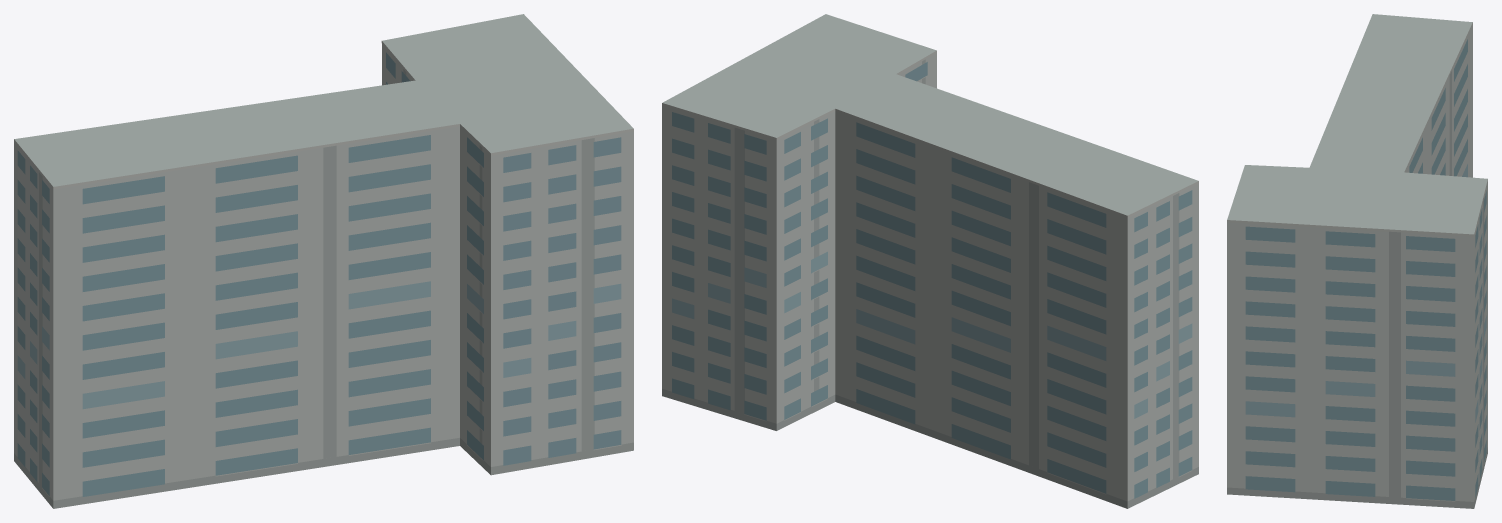
File: residential-0de4831f-9036-4392-9ade-1a5c6d03c9d6.glb
The picture shows the model from 3 angles, left to right: view 1: azimuth 30°, elevation 25°; view 2: azimuth 150°, elevation 25°; view 3: azimuth 270°, elevation 25°; orthographic projection. The views are drawn at different scales.
Visible parts, largest first — view 1: residential-0de4831f-9036-4392-9ade-1a5c6d03c9d6.tmp; view 2: residential-0de4831f-9036-4392-9ade-1a5c6d03c9d6.tmp; view 3: residential-0de4831f-9036-4392-9ade-1a5c6d03c9d6.tmp.
Part boxes in pixels (left/top/right/bottom): residential-0de4831f-9036-4392-9ade-1a5c6d03c9d6.tmp: left=14, top=14, right=633, bottom=508; residential-0de4831f-9036-4392-9ade-1a5c6d03c9d6.tmp: left=662, top=14, right=1198, bottom=508; residential-0de4831f-9036-4392-9ade-1a5c6d03c9d6.tmp: left=1227, top=14, right=1487, bottom=508.
Bounding box in the file's own units: 51.68 × 30 × 25.85.
